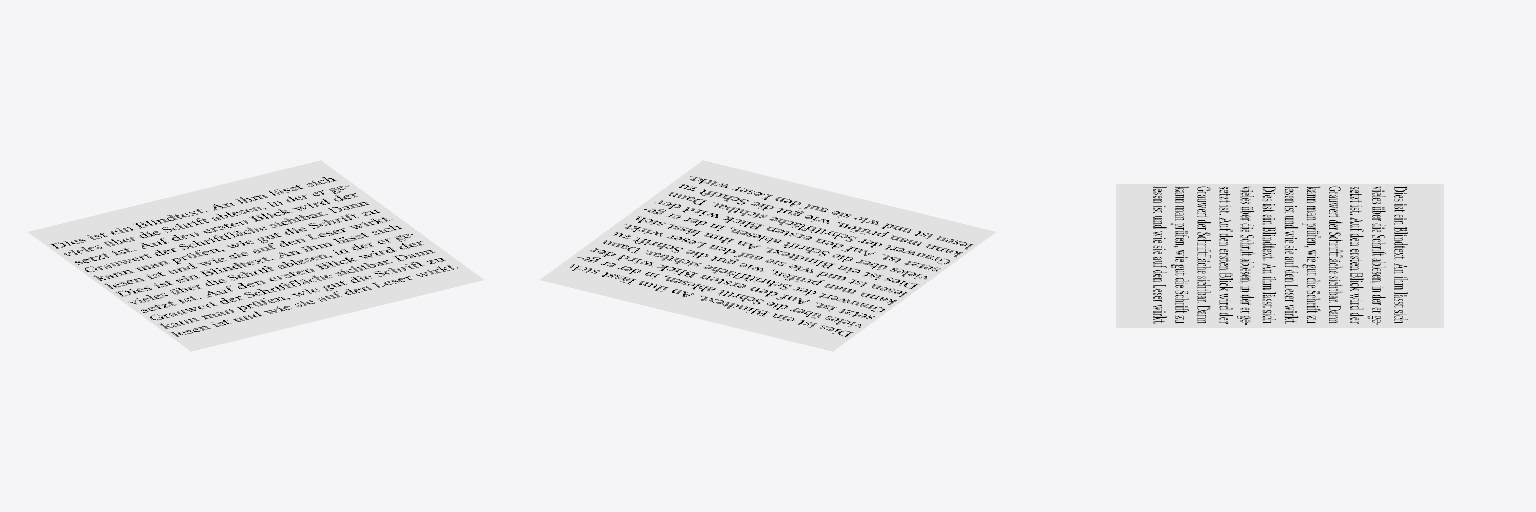
The picture shows the model from 3 angles: view 1: azimuth 30°, elevation 25°; view 2: azimuth 150°, elevation 25°; view 3: azimuth 270°, elevation 25°; orthographic projection.
Visible parts, largest first — view 1: Plane01; view 2: Plane01; view 3: Plane01.
Boxes of the visible parts, box(x1,y1,x2,y2) form: Plane01: box(28, 160, 483, 351); Plane01: box(540, 160, 995, 351); Plane01: box(1116, 184, 1443, 327).
Bounding box in the file's own units: 813 × 0 × 785.
1 materials, 1 textured.